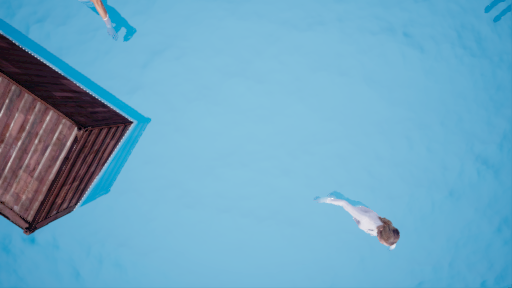person: (313, 192, 403, 254)
